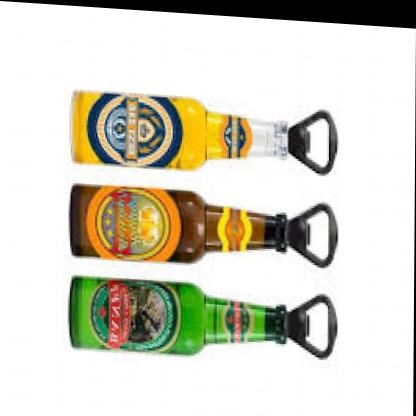trash: (70, 184, 337, 266), (72, 91, 336, 173), (70, 277, 336, 357)
